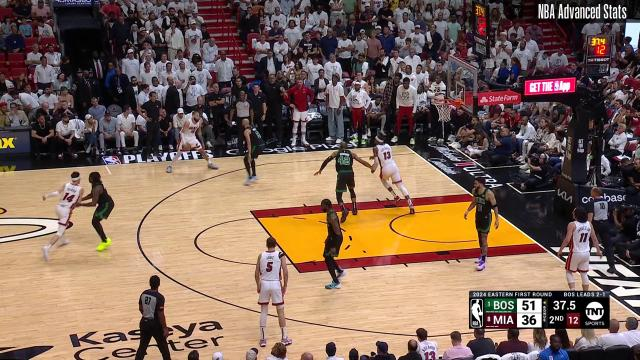3_sx: (412, 150, 421, 158)
b_sx: (402, 140, 411, 148)
free_adx: (293, 266, 307, 278)
free_asx: (246, 207, 258, 216)
free_bdx: (540, 246, 556, 258)
free_bsx: (464, 190, 476, 198)
mid_sx: (100, 160, 112, 170)
referee: (135, 275, 175, 360), (581, 188, 619, 274), (228, 93, 255, 155)
team: (254, 238, 294, 348), (556, 206, 602, 290), (41, 172, 84, 260), (371, 134, 417, 214), (164, 110, 218, 173)
team1: (320, 140, 372, 218), (463, 176, 501, 272), (318, 198, 348, 290), (84, 172, 116, 253), (239, 120, 265, 184)
timer: (551, 298, 579, 314)
